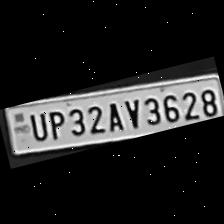2: (174, 85, 200, 122), (81, 100, 107, 136)
3: (136, 91, 162, 127), (61, 103, 87, 138)
6: (156, 89, 182, 125)
8: (194, 82, 220, 119)
A: (99, 97, 125, 133)
P: (40, 106, 68, 141)
U: (23, 108, 49, 144)
V: (118, 95, 142, 131)
